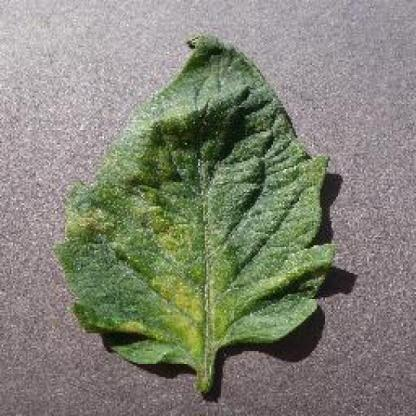Tomato_Spider_Mites: (62, 37, 325, 364)
